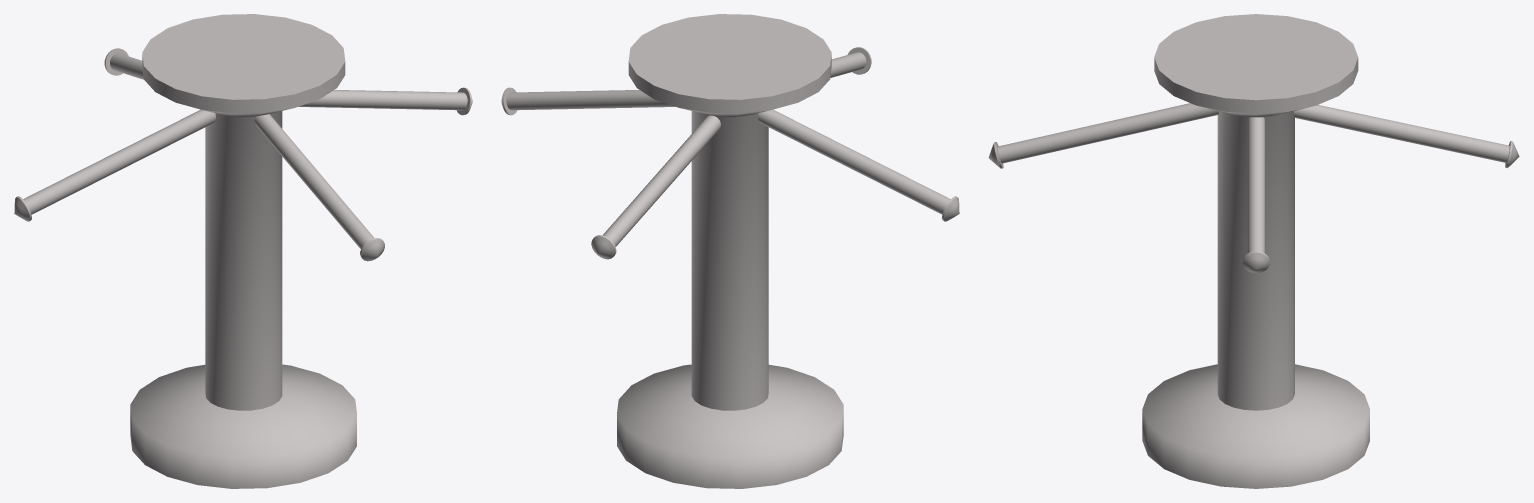
The model's file is FloorClothingRack.fbx.
3 views of the same model, side by side, from view 1: azimuth 30°, elevation 25°; view 2: azimuth 150°, elevation 25°; view 3: azimuth 270°, elevation 25° (orthographic).
Parts seen in each view (by area): view 1: FloorClothingRack1; view 2: FloorClothingRack1; view 3: FloorClothingRack1.
Boxes of the visible parts, <box> form: FloorClothingRack1: <box>14,14,472,488</box>; FloorClothingRack1: <box>501,14,959,488</box>; FloorClothingRack1: <box>988,14,1519,488</box>.
Size of the model in its own units: 278 by 222 by 279.
